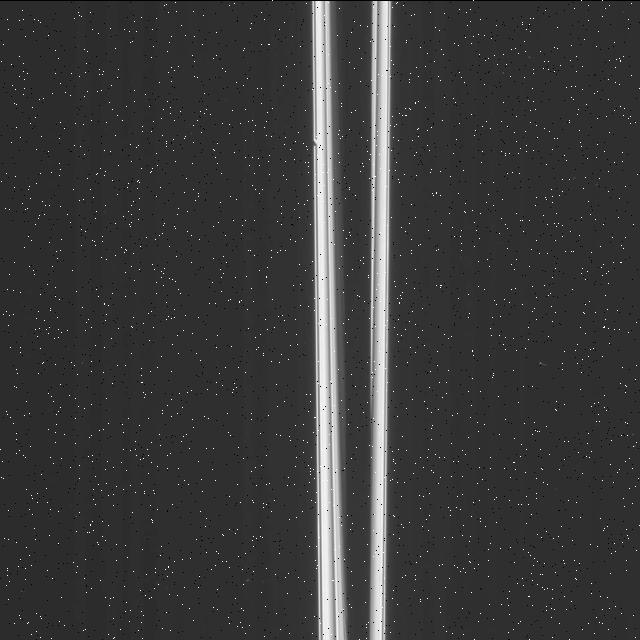Saturn: (312, 0, 392, 640)
